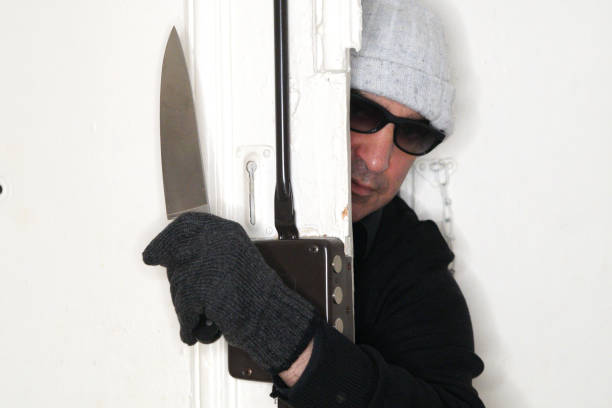knife: (157, 25, 211, 217)
